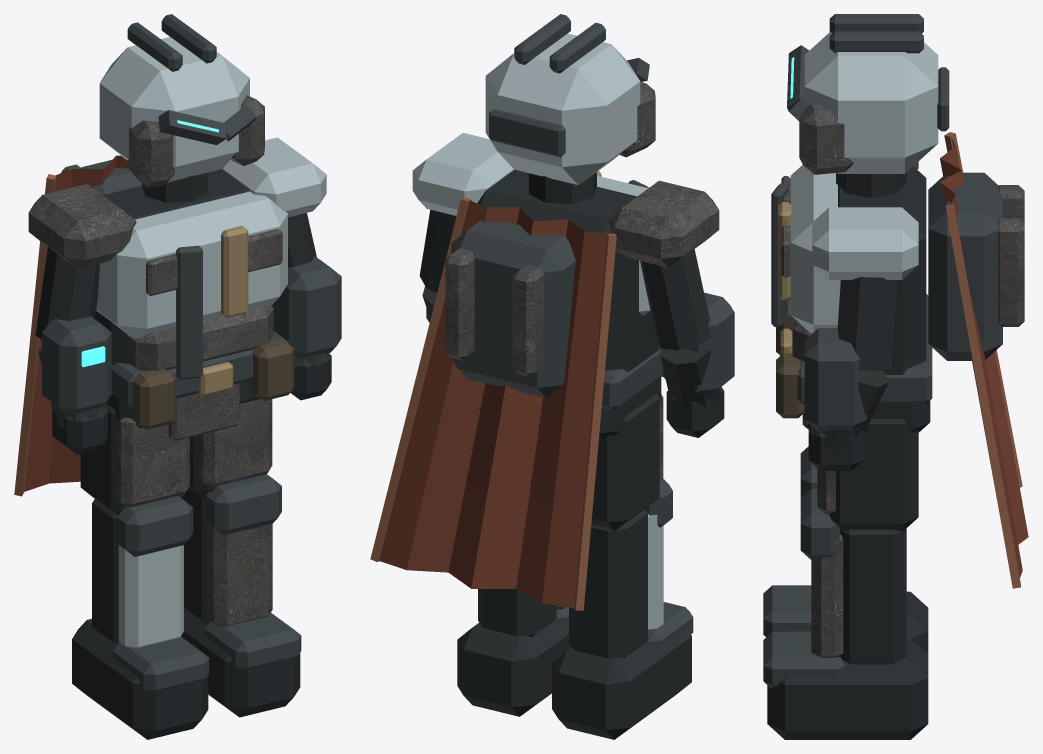
File: hunter.glb
The picture shows the model from 3 angles, left to right: view 1: azimuth 30°, elevation 25°; view 2: azimuth 150°, elevation 25°; view 3: azimuth 270°, elevation 25°; orthographic projection. The views are drawn at different scales.
Visible parts, largest first — view 1: Hunter_Body | Brushed white metal, Hunter_Leg_L | Rubber and undersuit, Hunter_Head | Brushed white metal, Hunter_Leg_R | Forged stormsteel, Hunter_Body | Forged stormsteel, Hunter_Leg_R | Rubber and undersuit, Hunter_Leg_L | Blackened iron, Hunter_Leg_R | Blackened iron, Hunter_Body | Blackened iron, Hunter_Arm_L | Forged stormsteel, Hunter_Leg_L | Brushed white metal, Hunter_Arm_L | Rubber and undersuit (+13 smaller); view 2: Hunter_Cloak | Oxblood field canvas, Hunter_Leg_L | Rubber and undersuit, Hunter_Body | Blackened iron, Hunter_Head | Brushed white metal, Hunter_Leg_R | Rubber and undersuit, Hunter_Body | Rubber and undersuit, Hunter_Arm_L | Rubber and undersuit, Hunter_Cloak | Faded canvas seams, Hunter_Arm_L | Forged stormsteel, Hunter_Body | Forged stormsteel, Hunter_Head | Blackened iron, Hunter_Arm_R | Brushed white metal (+7 smaller); view 3: Hunter_Leg_R | Rubber and undersuit, Hunter_Body | Blackened iron, Hunter_Head | Brushed white metal, Hunter_Arm_R | Rubber and undersuit, Hunter_Arm_R | Brushed white metal, Hunter_Body | Rubber and undersuit, Hunter_Body | Brushed white metal, Hunter_Head | Blackened iron, Hunter_Arm_R | Blackened iron, Hunter_Leg_R | Blackened iron, Hunter_Body | Forged stormsteel, Hunter_Cloak | Oxblood field canvas (+8 smaller).
Boxes of the visible parts, left/top/right/bottom form: Hunter_Body | Brushed white metal: left=96, top=191, right=287, bottom=339; Hunter_Leg_L | Rubber and undersuit: left=72, top=403, right=208, bottom=739; Hunter_Head | Brushed white metal: left=99, top=37, right=249, bottom=182; Hunter_Leg_R | Forged stormsteel: left=198, top=398, right=272, bottom=626; Hunter_Body | Forged stormsteel: left=61, top=164, right=282, bottom=440; Hunter_Leg_R | Rubber and undersuit: left=181, top=435, right=300, bottom=717; Hunter_Leg_L | Blackened iron: left=112, top=496, right=209, bottom=693; Hunter_Leg_R | Blackened iron: left=204, top=474, right=301, bottom=671; Hunter_Body | Blackened iron: left=80, top=160, right=288, bottom=407; Hunter_Arm_L | Forged stormsteel: left=28, top=184, right=136, bottom=268; Hunter_Leg_L | Brushed white metal: left=118, top=545, right=183, bottom=647; Hunter_Arm_L | Rubber and undersuit: left=35, top=247, right=107, bottom=454; Hunter_Cloak | Oxblood field canvas: left=379, top=200, right=606, bottom=608; Hunter_Leg_L | Rubber and undersuit: left=552, top=394, right=691, bottom=739; Hunter_Body | Blackened iron: left=451, top=180, right=662, bottom=410; Hunter_Head | Brushed white metal: left=485, top=33, right=640, bottom=185; Hunter_Leg_R | Rubber and undersuit: left=457, top=589, right=571, bottom=716; Hunter_Body | Rubber and undersuit: left=477, top=169, right=661, bottom=439; Hunter_Arm_L | Rubber and undersuit: left=640, top=249, right=724, bottom=437; Hunter_Cloak | Faded canvas seams: left=370, top=197, right=616, bottom=610; Hunter_Arm_L | Forged stormsteel: left=608, top=180, right=719, bottom=267; Hunter_Body | Forged stormsteel: left=445, top=248, right=543, bottom=376; Hunter_Head | Blackened iron: left=489, top=14, right=649, bottom=156; Hunter_Arm_R | Brushed white metal: left=412, top=133, right=513, bottom=215; Hunter_Leg_R | Rubber and undersuit: left=767, top=419, right=928, bottom=739; Hunter_Body | Blackened iron: left=771, top=172, right=1002, bottom=404; Hunter_Head | Brushed white metal: left=804, top=32, right=938, bottom=173; Hunter_Arm_R | Rubber and undersuit: left=807, top=277, right=897, bottom=470; Hunter_Arm_R | Brushed white metal: left=812, top=207, right=918, bottom=279; Hunter_Body | Rubber and undersuit: left=838, top=166, right=930, bottom=432; Hunter_Body | Brushed white metal: left=790, top=165, right=840, bottom=333; Hunter_Head | Blackened iron: left=787, top=14, right=949, bottom=131; Hunter_Arm_R | Blackened iron: left=804, top=328, right=867, bottom=432; Hunter_Leg_R | Blackened iron: left=763, top=488, right=845, bottom=688; Hunter_Body | Forged stormsteel: left=781, top=176, right=1024, bottom=428; Hunter_Cloak | Oxblood field canvas: left=940, top=137, right=1028, bottom=577.
Size of the model in its own units: 0.8325 by 1.85 by 0.6535.
Materials: 9 (1 with a texture image).
